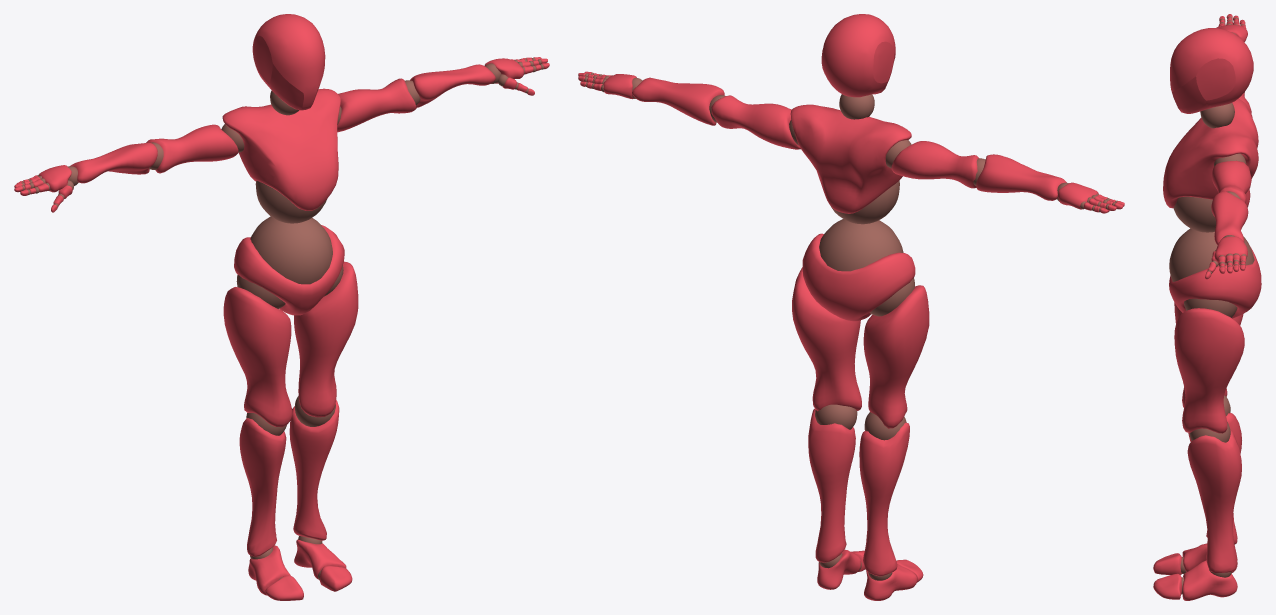
Rendered from xbot.fbx.
The picture shows the model from 3 angles, left to right: view 1: azimuth 30°, elevation 25°; view 2: azimuth 150°, elevation 25°; view 3: azimuth 270°, elevation 25°; orthographic projection. The views are drawn at different scales.
Visible parts, largest first — view 1: Beta_Joints; view 2: Beta_Joints; view 3: Beta_Joints.
Part boxes in pixels (left/top/right/bottom): Beta_Joints: left=14, top=14, right=549, bottom=600; Beta_Joints: left=578, top=14, right=1124, bottom=600; Beta_Joints: left=1153, top=14, right=1261, bottom=600.
Bounding box in the file's own units: 1.81 × 1.81 × 0.3207.
